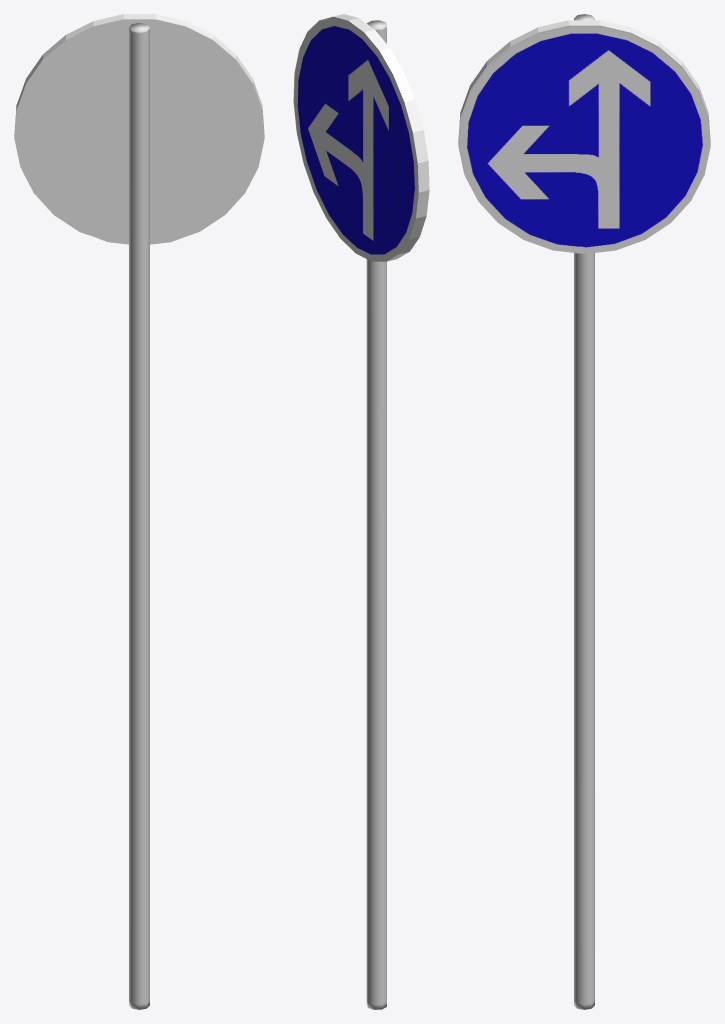
The model's file is sign_no_right_turn.glb.
The picture shows the model from 3 angles, left to right: view 1: azimuth 90°, elevation 25°; view 2: azimuth 210°, elevation 25°; view 3: azimuth 270°, elevation 25°; orthographic projection.
Visible parts, largest first — view 1: no_right_turn, pole; view 2: no_right_turn, pole; view 3: no_right_turn, pole.
Part boxes in pixels (x1,y1,x2,y2): no_right_turn: [14, 14, 264, 244]; pole: [129, 23, 149, 1009]; no_right_turn: [293, 14, 429, 261]; pole: [366, 20, 386, 1009]; no_right_turn: [458, 20, 710, 253]; pole: [574, 14, 594, 1009].
Bounding box in the file's own units: 0.0826 × 2.6 × 0.6.
Materials: 2 (1 with a texture image).
